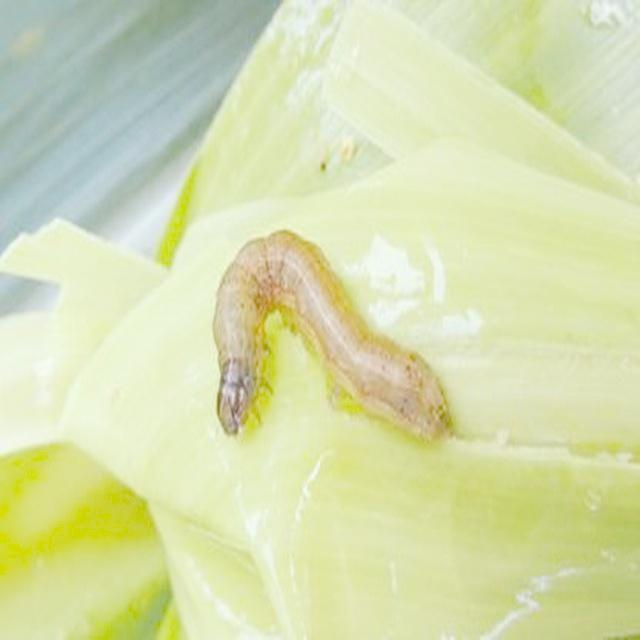gusano_cogollero: (207, 222, 456, 448)
